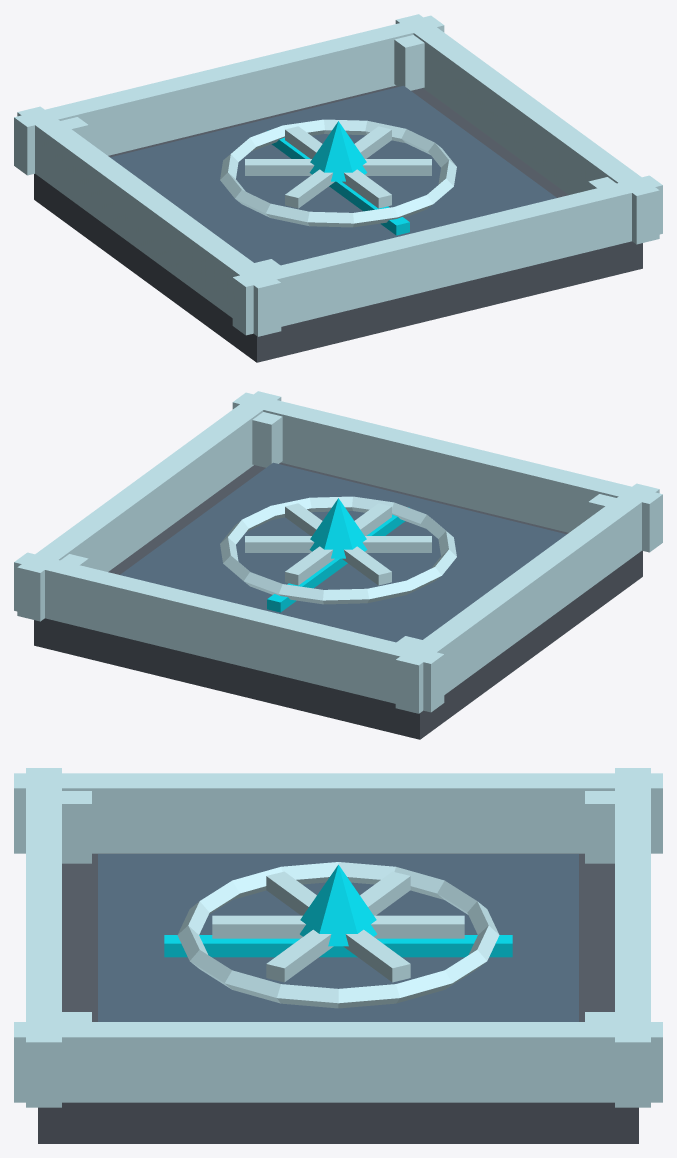
File: TD_SlowTile.fbx
The picture shows the model from 3 angles, top to bottom: view 1: azimuth 30°, elevation 25°; view 2: azimuth 150°, elevation 25°; view 3: azimuth 270°, elevation 25°; orthographic projection. The views are drawn at different scales.
Parts seen in each view (by area): view 1: TD_SlowTile_Surface, TD_SlowTile_Rail_South, TD_SlowTile_Rail_North, TD_SlowTile_BasePlate, TD_SlowTile_Rail_West, TD_SlowTile_Rail_East, TD_SlowTile_FrostRing, TD_SlowTile_FrostSpoke_02, TD_SlowTile_IceMarker, TD_SlowTile_FrostSpoke_01, TD_SlowTile_FrostSpoke_03, TD_SlowTile_CornerPost_04 (+1 smaller); view 2: TD_SlowTile_Surface, TD_SlowTile_Rail_North, TD_SlowTile_Rail_South, TD_SlowTile_BasePlate, TD_SlowTile_Rail_West, TD_SlowTile_Rail_East, TD_SlowTile_FrostRing, TD_SlowTile_FrostSpoke_03, TD_SlowTile_IceMarker, TD_SlowTile_FrostSpoke_01, TD_SlowTile_FrostSpoke_02, TD_SlowTile_CornerPost_02 (+1 smaller); view 3: TD_SlowTile_Surface, TD_SlowTile_Rail_East, TD_SlowTile_Rail_West, TD_SlowTile_BasePlate, TD_SlowTile_FrostRing, TD_SlowTile_Rail_North, TD_SlowTile_Rail_South, TD_SlowTile_PathCenterLine, TD_SlowTile_FrostSpoke_01, TD_SlowTile_IceMarker, TD_SlowTile_FrostSpoke_02, TD_SlowTile_FrostSpoke_03 (+2 smaller).
Part boxes in pixels (x1=…): TD_SlowTile_Surface: x1=110, y1=85, x2=556, y2=265; TD_SlowTile_Rail_South: x1=232, y1=175, x2=662, y2=335; TD_SlowTile_Rail_North: x1=14, y1=15, x2=444, y2=175; TD_SlowTile_BasePlate: x1=34, y1=85, x2=642, y2=362; TD_SlowTile_Rail_West: x1=17, y1=106, x2=281, y2=336; TD_SlowTile_Rail_East: x1=395, y1=14, x2=659, y2=244; TD_SlowTile_FrostRing: x1=220, y1=119, x2=456, y2=227; TD_SlowTile_FrostSpoke_02: x1=245, y1=159, x2=431, y2=175; TD_SlowTile_IceMarker: x1=309, y1=121, x2=367, y2=181; TD_SlowTile_FrostSpoke_01: x1=285, y1=126, x2=391, y2=208; TD_SlowTile_FrostSpoke_03: x1=285, y1=126, x2=391, y2=208; TD_SlowTile_CornerPost_04: x1=394, y1=35, x2=424, y2=90; TD_SlowTile_Surface: x1=120, y1=462, x2=566, y2=642; TD_SlowTile_Rail_North: x1=14, y1=552, x2=444, y2=712; TD_SlowTile_Rail_South: x1=232, y1=392, x2=662, y2=552; TD_SlowTile_BasePlate: x1=34, y1=462, x2=642, y2=739; TD_SlowTile_Rail_West: x1=395, y1=483, x2=659, y2=713; TD_SlowTile_Rail_East: x1=17, y1=391, x2=281, y2=621; TD_SlowTile_FrostRing: x1=220, y1=496, x2=456, y2=604; TD_SlowTile_FrostSpoke_03: x1=245, y1=536, x2=431, y2=552; TD_SlowTile_IceMarker: x1=309, y1=498, x2=367, y2=558; TD_SlowTile_FrostSpoke_01: x1=285, y1=503, x2=391, y2=585; TD_SlowTile_FrostSpoke_02: x1=285, y1=503, x2=391, y2=585; TD_SlowTile_CornerPost_02: x1=252, y1=412, x2=282, y2=467; TD_SlowTile_Surface: x1=98, y1=854, x2=578, y2=1021; TD_SlowTile_Rail_East: x1=14, y1=1022, x2=662, y2=1102; TD_SlowTile_Rail_West: x1=14, y1=773, x2=662, y2=853; TD_SlowTile_BasePlate: x1=38, y1=853, x2=638, y2=1143; TD_SlowTile_FrostRing: x1=177, y1=862, x2=499, y2=1008; TD_SlowTile_Rail_North: x1=615, y1=768, x2=650, y2=1107; TD_SlowTile_Rail_South: x1=26, y1=768, x2=61, y2=1107; TD_SlowTile_PathCenterLine: x1=164, y1=935, x2=512, y2=957; TD_SlowTile_FrostSpoke_01: x1=212, y1=915, x2=464, y2=938; TD_SlowTile_IceMarker: x1=300, y1=864, x2=376, y2=946; TD_SlowTile_FrostSpoke_02: x1=266, y1=871, x2=410, y2=982; TD_SlowTile_FrostSpoke_03: x1=266, y1=871, x2=410, y2=982.
Bounding box in the file's own units: 108 × 28 × 108.
